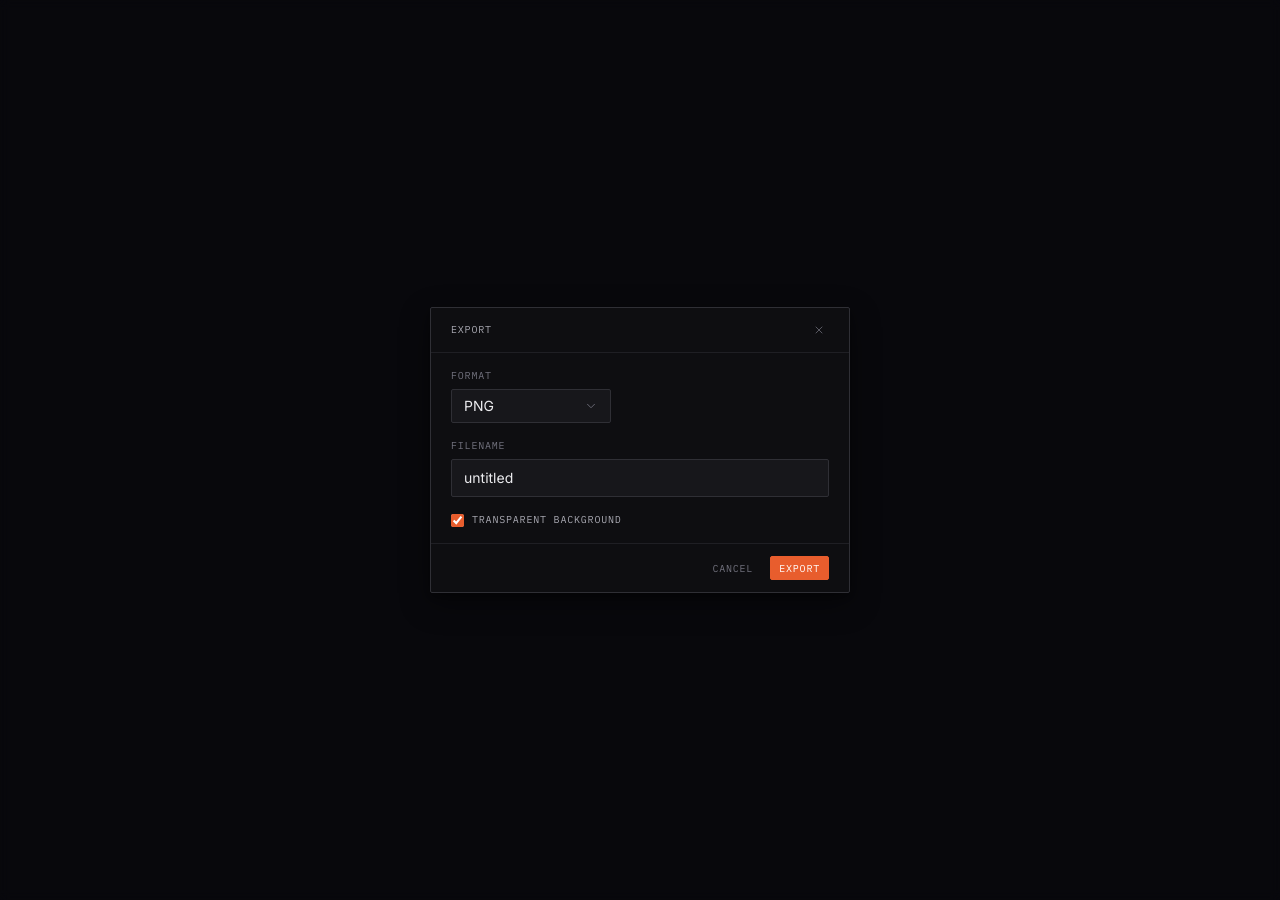
it: ExportDialog › shows PDF and GIF in format options
Click the dropdown.
click(531, 406)  # box [451,389,611,423]
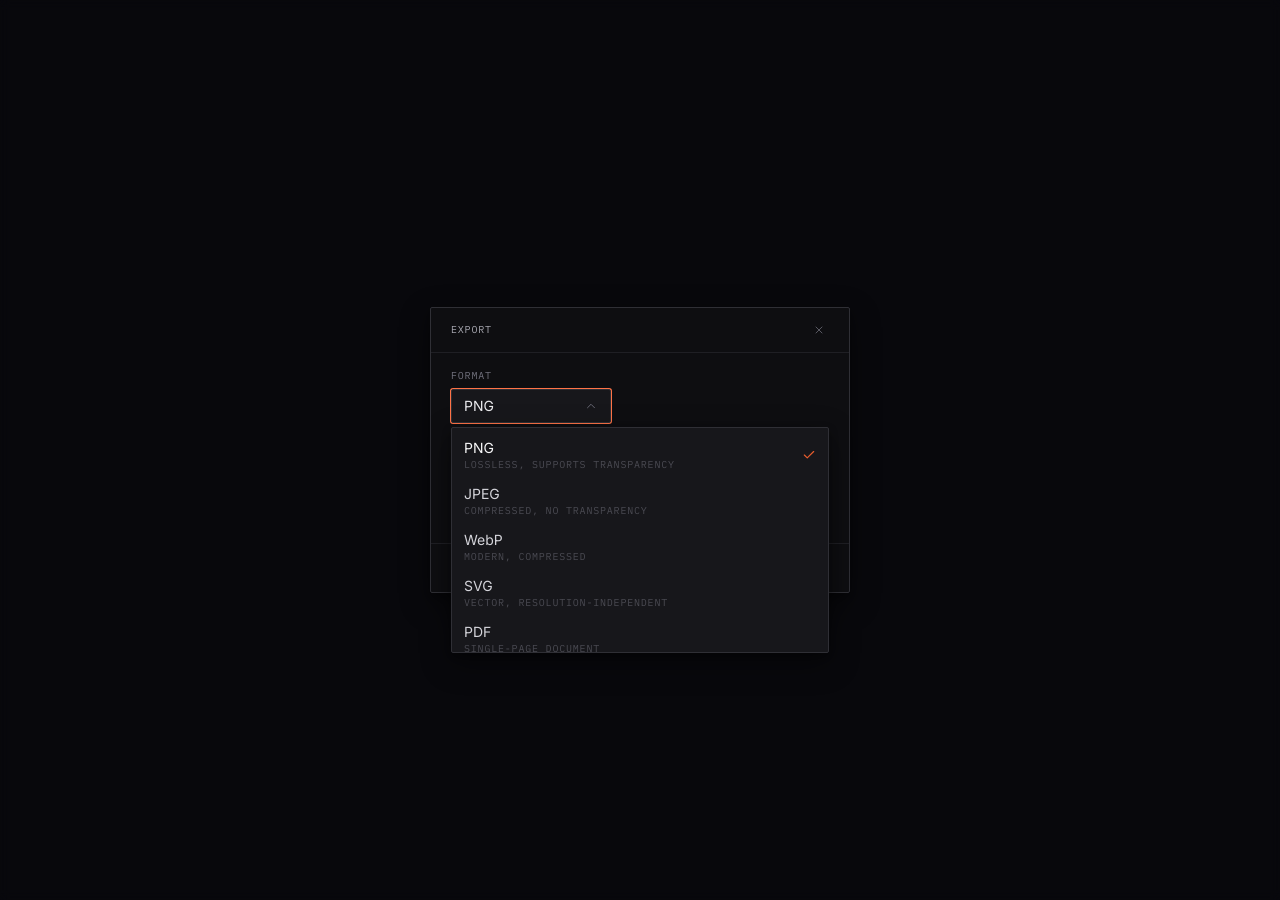
Result: the option "PDF Single-page document" is shown at [464,623,600,652]
